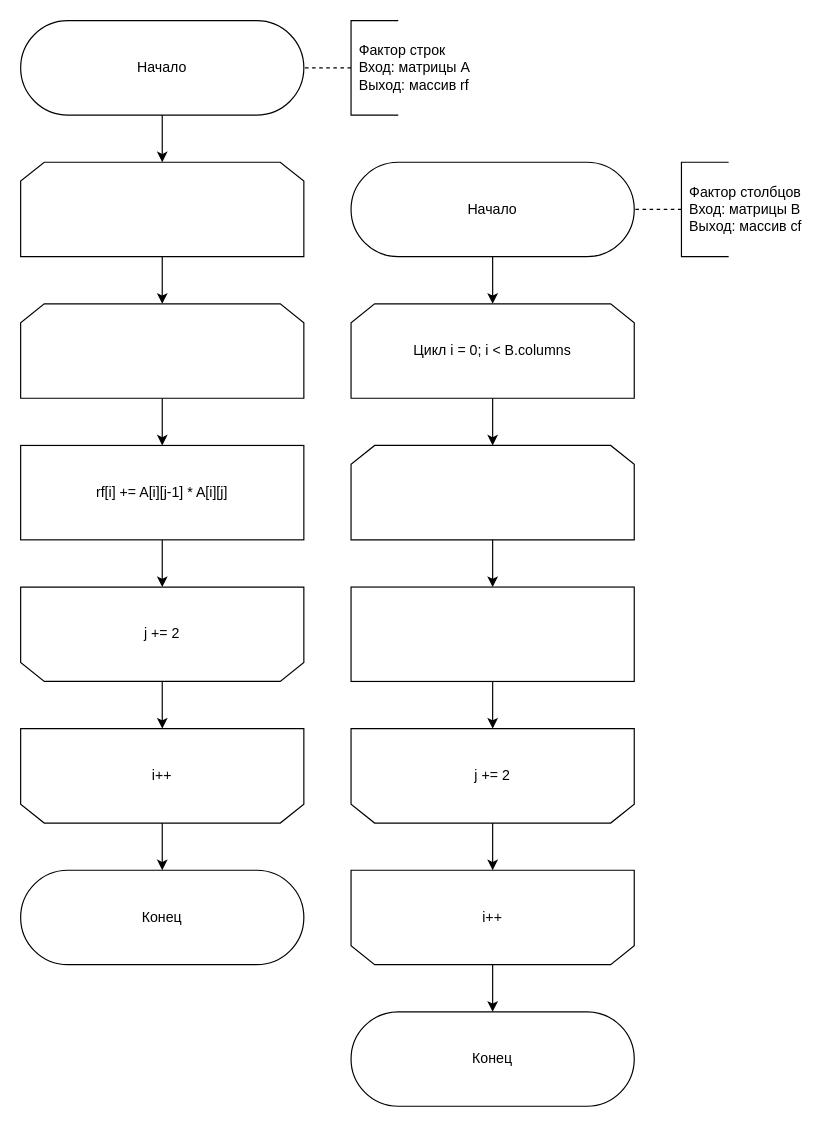
This 822x1127 diagram has some shape labels left out. The shapes that lost their labels are listed below. From the top down, each one's centre as x and y in pixels, then its label:
At (x=161, y=209): "Цикл i = 0; i < A.rows".
At (x=161, y=350): "Цикл j = 1; i < A.columns".
At (x=492, y=492): "Цикл j = 1; i < B.rows".
At (x=492, y=633): "cf[i] += B[j-1][i] * B[j][i]".
